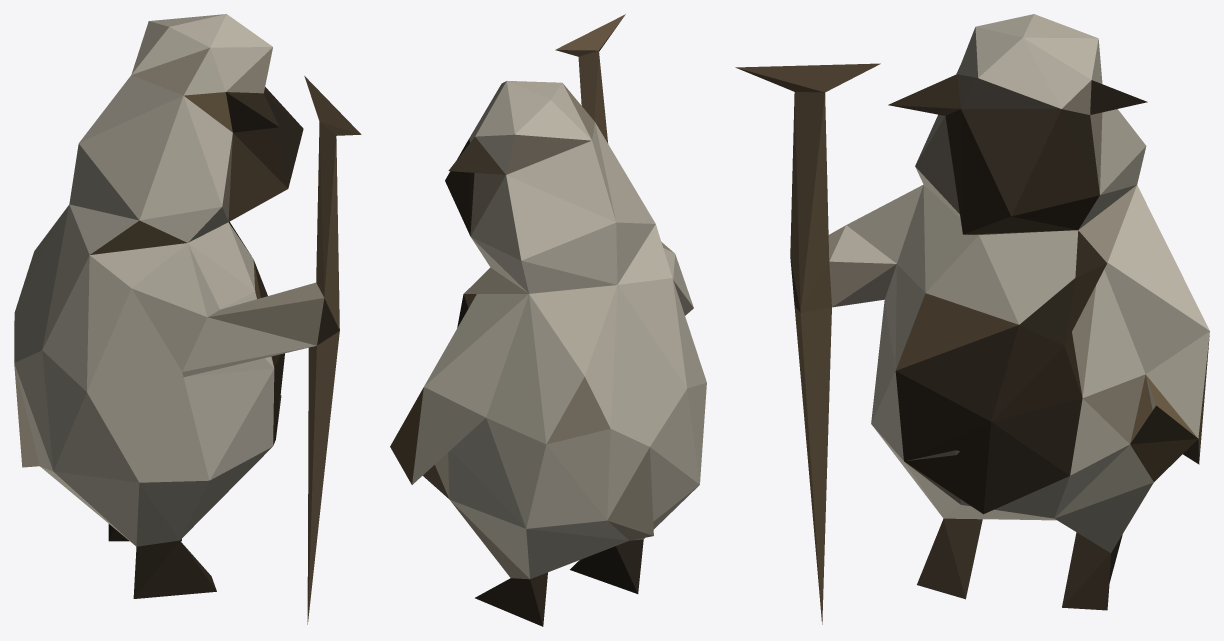
The picture shows the model from 3 angles, left to right: view 1: azimuth 30°, elevation 25°; view 2: azimuth 150°, elevation 25°; view 3: azimuth 270°, elevation 25°; orthographic projection. The views are drawn at different scales.
Parts seen in each view (by area): view 1: lion-200; view 2: lion-200; view 3: lion-200.
Part boxes in pixels (left/top/right/bottom): lion-200: left=14, top=14, right=361, bottom=624; lion-200: left=390, top=14, right=706, bottom=626; lion-200: left=735, top=14, right=1209, bottom=624.
Size of the model in its own units: 0.5091 by 1.01 by 0.7306.
